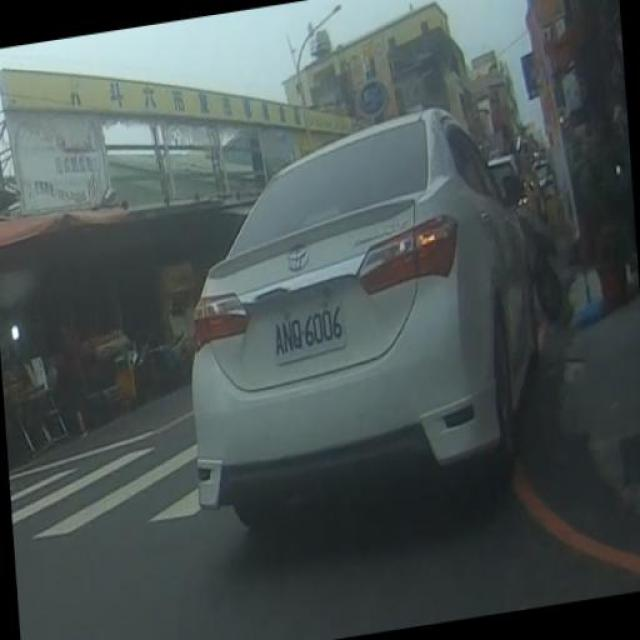illegalparking: (141, 103, 600, 520)
